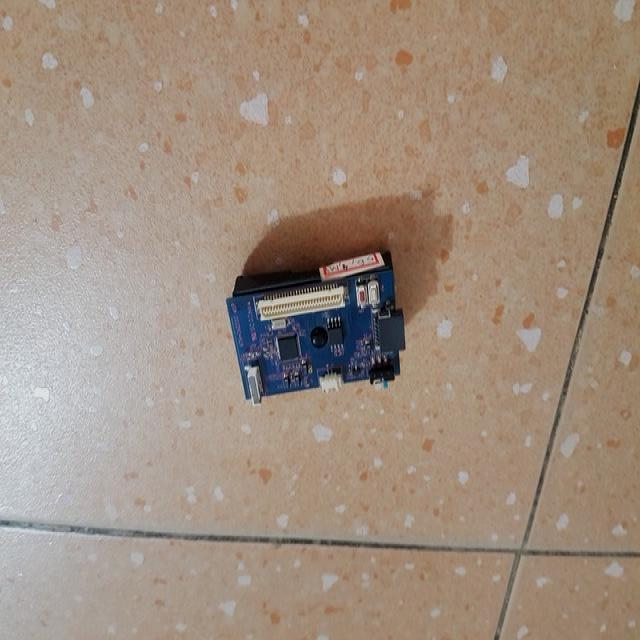TelosB: (227, 254, 405, 404)
